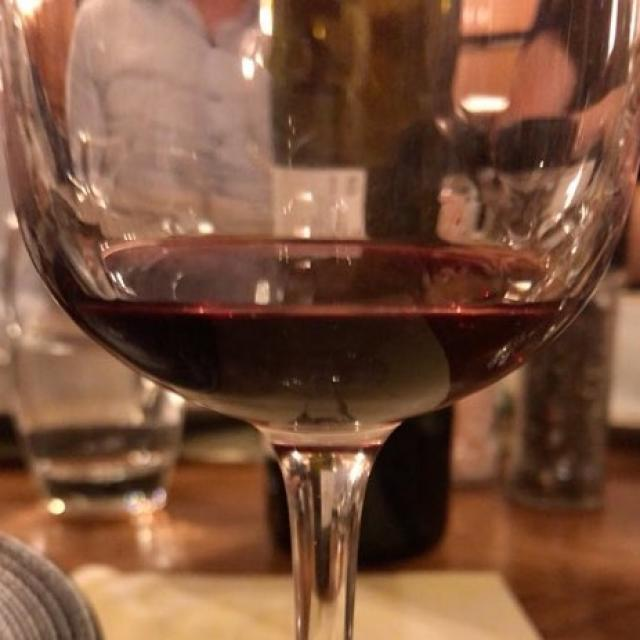wine: (72, 237, 569, 450)
